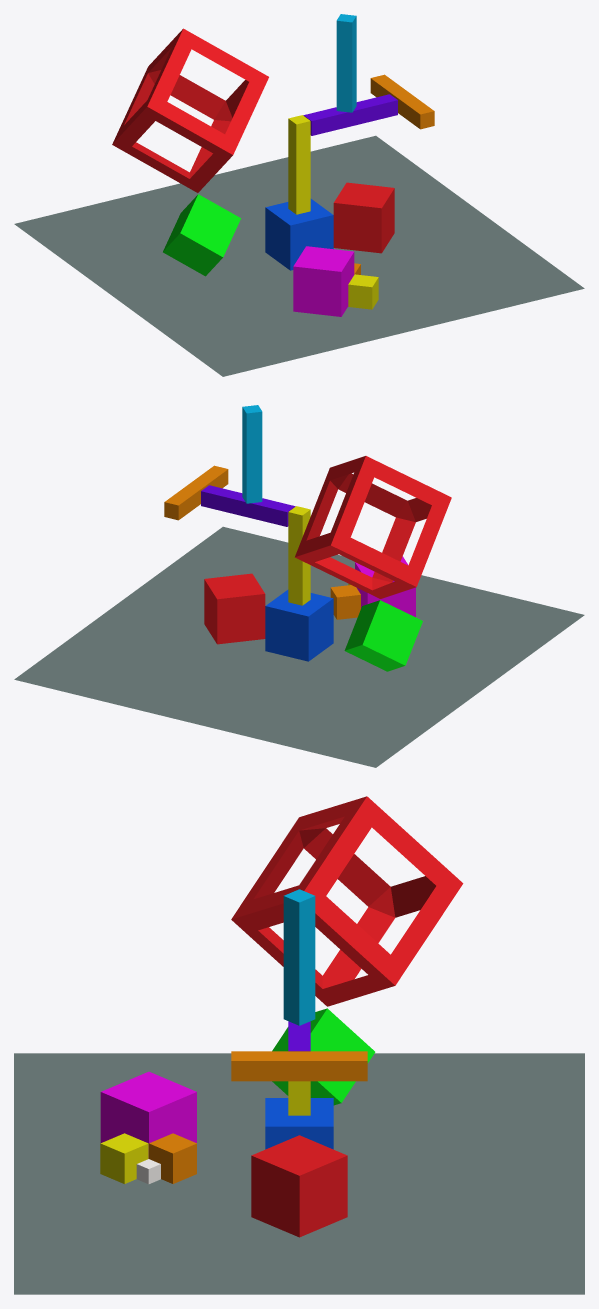
The model's file is shapes_001a.gltf.
3 renders of one model, top to bottom at view 1: azimuth 30°, elevation 25°; view 2: azimuth 150°, elevation 25°; view 3: azimuth 270°, elevation 25°, orthographic. The views are drawn at different scales.
Visible parts, largest first — view 1: Plane, Cube.004, Cube.001, Cube.003, Cube.002, Cube, Cube.005, Cube.011, Cube.009, Cube.010, Cube.007; view 2: Plane, Cube.004, Cube, Cube.001, Cube.003, Cube.011, Cube.009, Cube.005, Cube.010, Cube.002, Cube.006; view 3: Plane, Cube.004, Cube.001, Cube.002, Cube.011, Cube.010, Cube.003, Cube, Cube.007, Cube.006, Cube.005, Cube.009.
Boxes of the visible parts, x1,y1,x2,y2 form: Plane: (14,135,584,376); Cube.004: (112,28,268,192); Cube.001: (333,182,394,253); Cube.003: (163,194,240,276); Cube.002: (293,246,354,316); Cube: (265,198,333,270); Cube.005: (288,115,310,214); Cube.011: (336,14,356,112); Cube.009: (303,94,397,135); Cube.010: (370,74,434,129); Cube.007: (348,274,378,309); Plane: (14,526,584,767); Cube.004: (295,456,451,598); Cube: (265,589,333,661); Cube.001: (204,573,265,644); Cube.003: (344,600,422,671); Cube.011: (242,405,262,503); Cube.009: (201,485,295,526); Cube.005: (288,506,310,605); Cube.010: (164,465,228,520); Cube.002: (355,556,415,617); Cube.006: (330,585,360,619); Plane: (14,1053,584,1294); Cube.004: (231,796,463,1006); Cube.001: (251,1135,347,1237); Cube.002: (100,1071,196,1158); Cube.011: (283,889,315,1025); Cube.010: (231,1051,367,1081); Cube.003: (272,1008,375,1105); Cube: (265,1098,333,1149); Cube.007: (100,1133,148,1183); Cube.006: (149,1133,196,1183); Cube.005: (288,1081,310,1115); Cube.009: (288,1021,310,1051).
Size of the model in its own units: 16.78 by 10.28 by 16.78.
